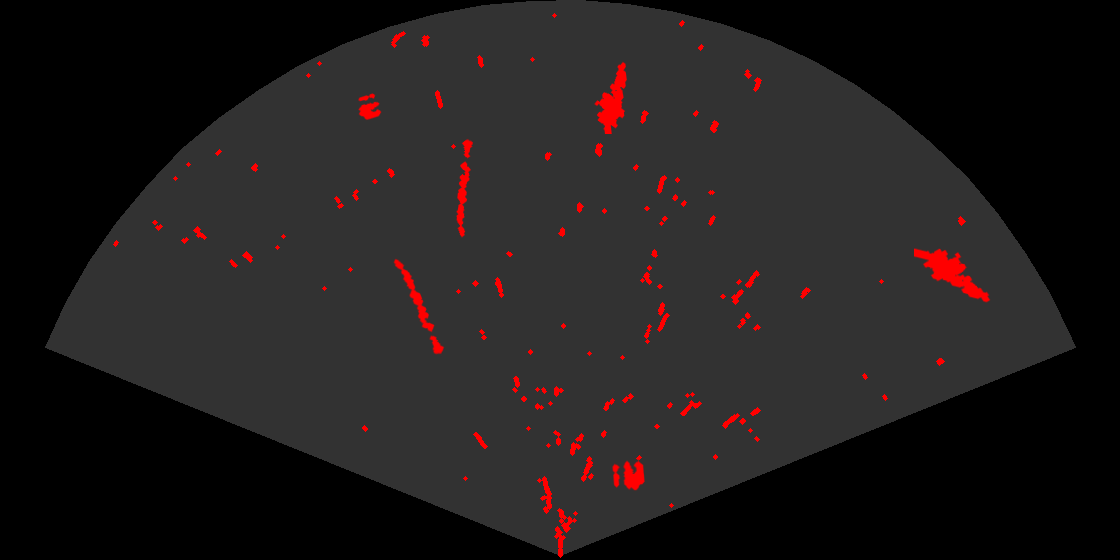ball: (611, 459, 646, 492), (357, 92, 383, 122)
chain: (392, 257, 446, 357), (455, 137, 474, 238)
frogman: (914, 247, 992, 304), (593, 60, 628, 134)
